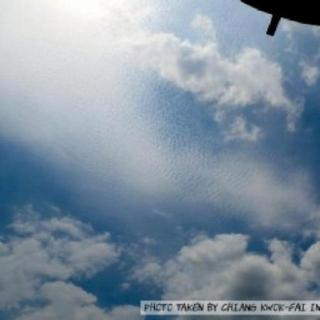Cirrocumulus: (0, 0, 320, 292)
